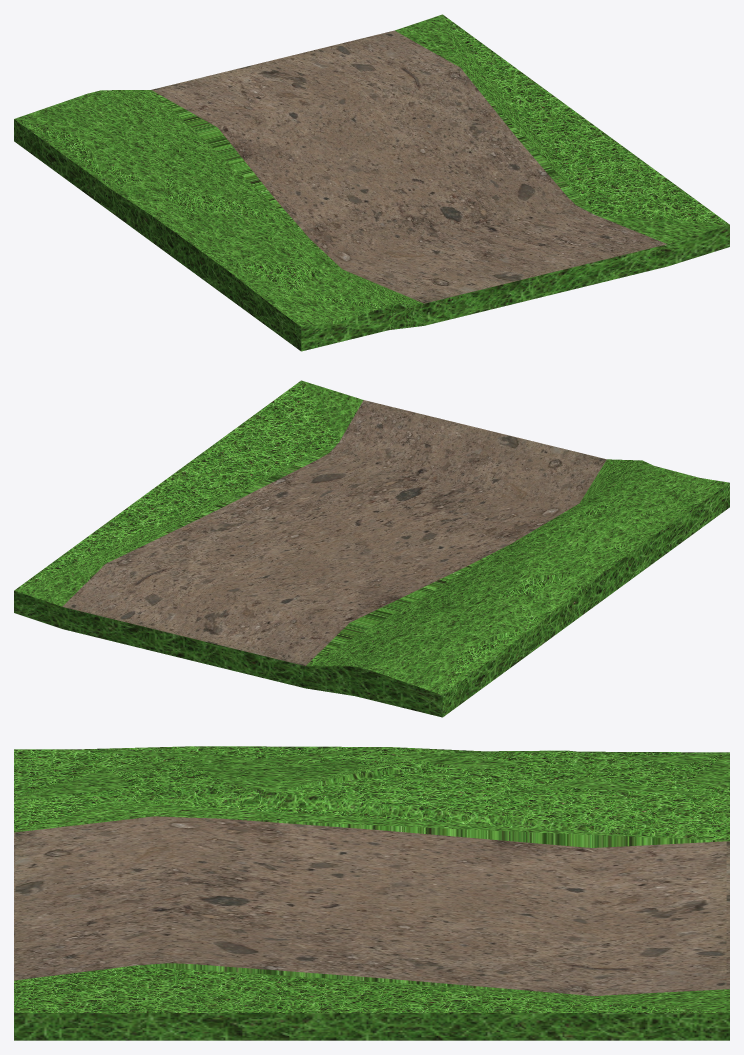
The model's file is newground3.fbx.
3 renders of one model, top to bottom at view 1: azimuth 30°, elevation 25°; view 2: azimuth 150°, elevation 25°; view 3: azimuth 270°, elevation 25°, orthographic. The views are drawn at different scales.
Parts seen in each view (by area): view 1: pCube3; view 2: pCube3; view 3: pCube3.
Part boxes in pixels (x1,y1,x2,y2): pCube3: (14,14,729,351); pCube3: (14,380,729,717); pCube3: (14,746,729,1040).
Bounding box in the file's own units: 20.17 × 1.85 × 23.41.
Materials: 2 (2 with a texture image).
